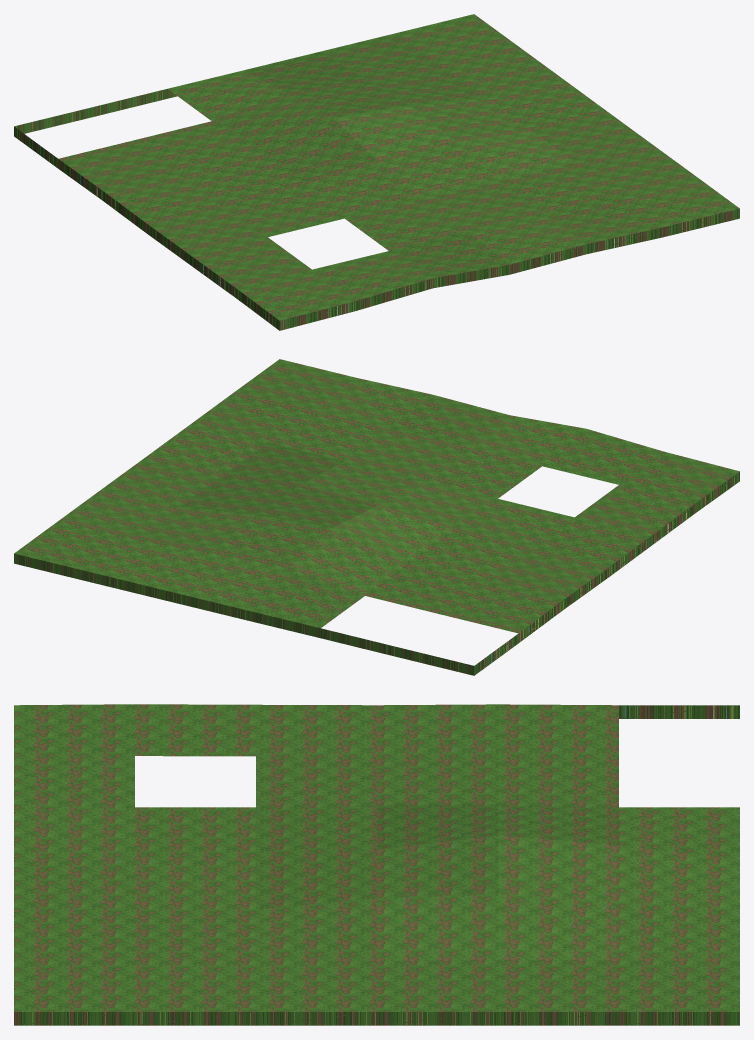
File: rv_terrain_32_lod3.gltf
3 renders of one model, top to bottom at view 1: azimuth 30°, elevation 25°; view 2: azimuth 150°, elevation 25°; view 3: azimuth 270°, elevation 25°, orthographic. The views are drawn at different scales.
Visible parts, largest first — view 1: RV_Terrain_32_lod3; view 2: RV_Terrain_32_lod3; view 3: RV_Terrain_32_lod3.
Boxes of the visible parts, x1,y1,x2,y2 form: RV_Terrain_32_lod3: [14, 14, 739, 330]; RV_Terrain_32_lod3: [14, 359, 739, 675]; RV_Terrain_32_lod3: [14, 704, 739, 1025].
Size of the model in its own units: 72 by 4.07 by 72.
2 materials, 1 textured.
